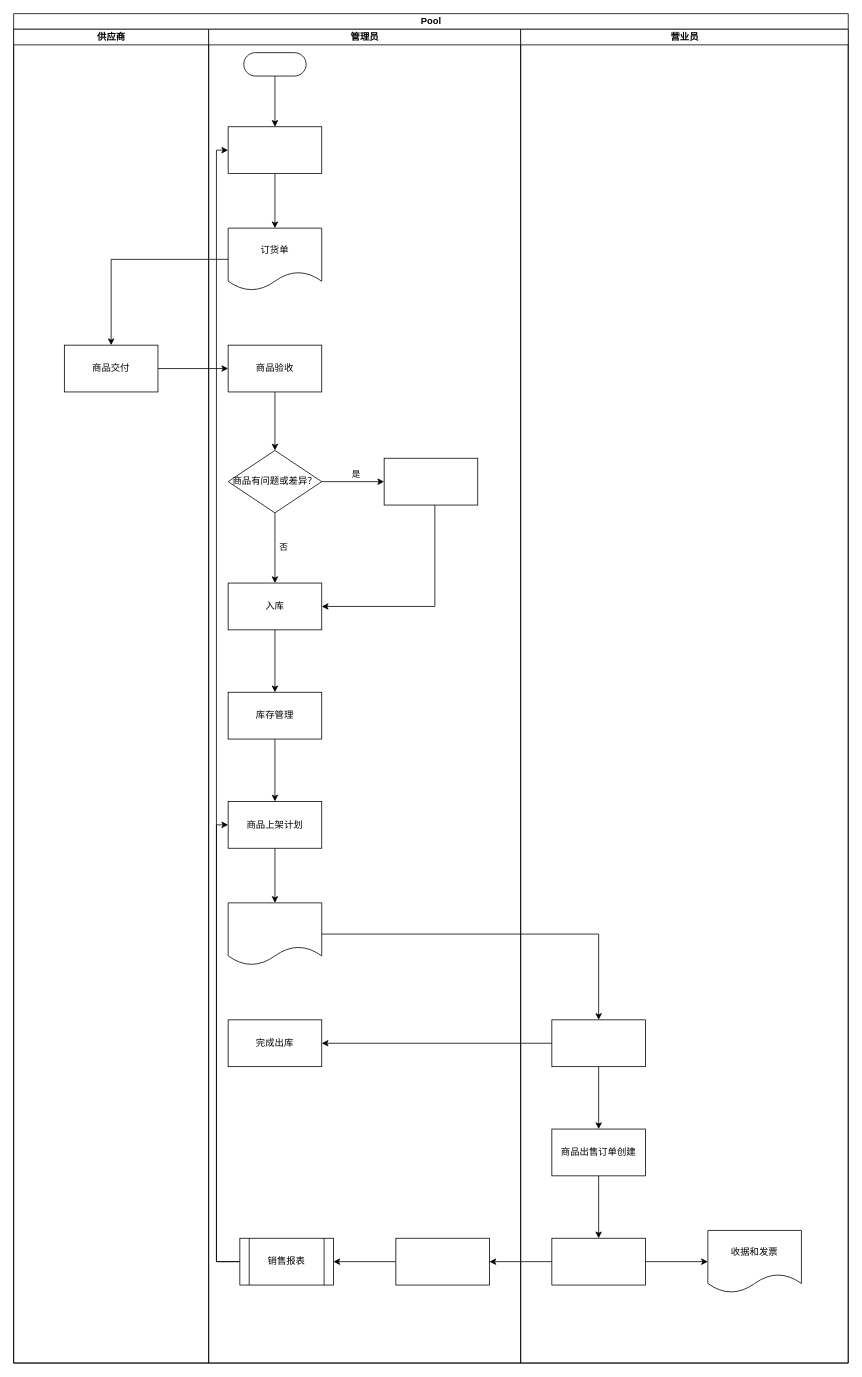
This 862x1377 diagram has some shape labels left out. The shapes that lost their labels are listed below. From the top down, each one's centre as x and y in pixels, then its label:
pixel 274 64: 开始
pixel 274 150: 采购计划
pixel 430 481: 协商退货或修改
pixel 274 933: 商品上架单
pixel 598 1043: 商品上架
pixel 442 1261: 商品售出
pixel 598 1261: 商品扫描和结算
